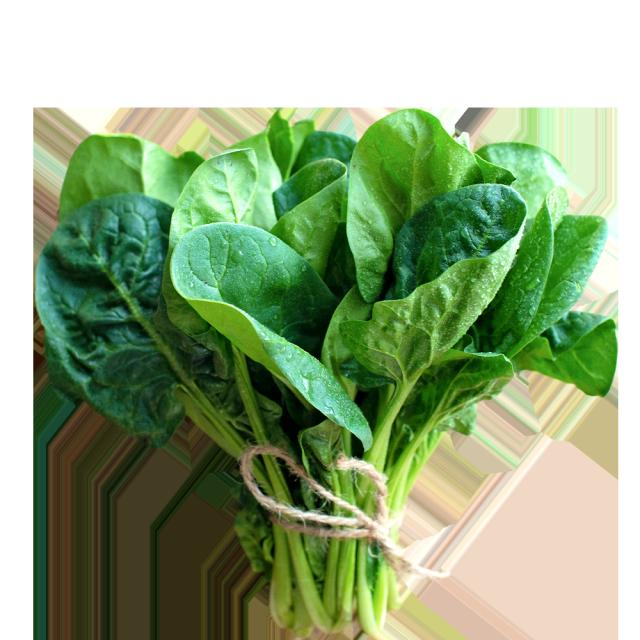spinach: (27, 97, 631, 634)
